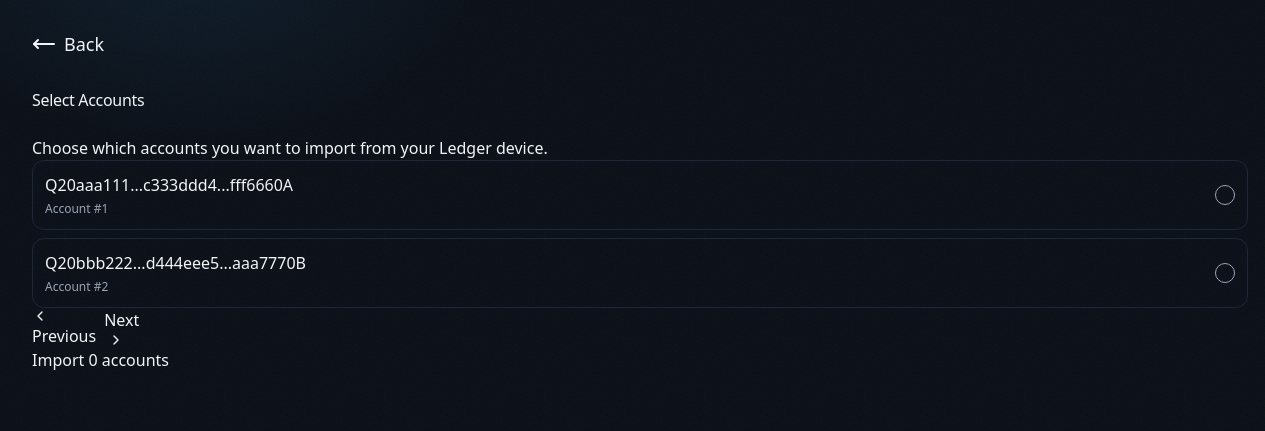
Test: ImportLedger › Step 2: Pagination › should show error when pagination fails
Click the button "Next": point(122, 328) [104,308,139,348]
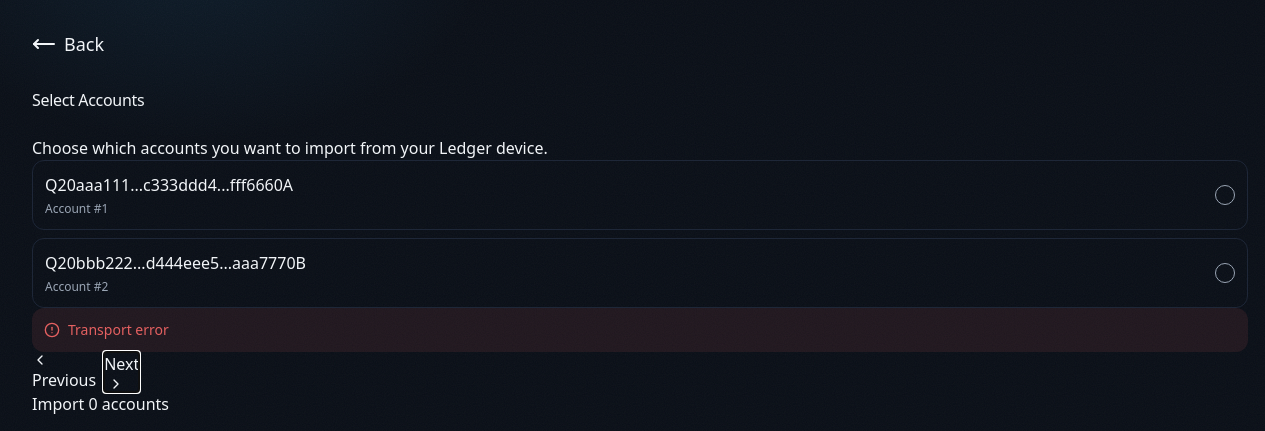
Result: the text "Transport error" is shown at [68,320,169,340]
